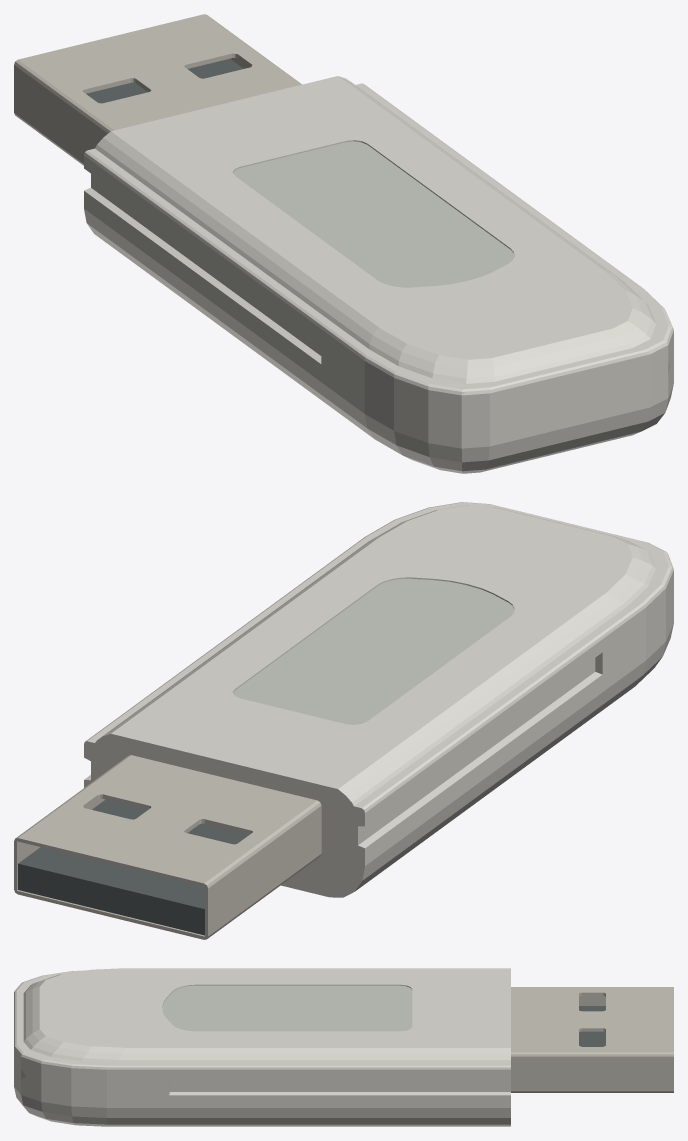
The model's file is USB.glb.
The picture shows the model from 3 angles, top to bottom: view 1: azimuth 30°, elevation 25°; view 2: azimuth 150°, elevation 25°; view 3: azimuth 270°, elevation 25°; orthographic projection. The views are drawn at different scales.
Parts seen in each view (by area): view 1: Object_2; view 2: Object_2; view 3: Object_2.
Boxes of the visible parts, x1=… form: Object_2: x1=14, y1=14, x2=673, y2=473; Object_2: x1=14, y1=502, x2=673, y2=939; Object_2: x1=14, y1=968, x2=673, y2=1126.
Size of the model in its own units: 1.86 by 0.6971 by 5.26.
1 material, 1 textured.
